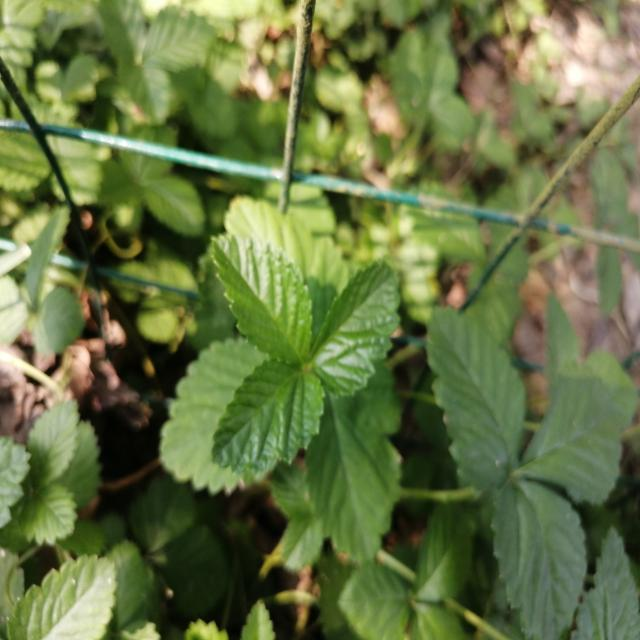Mock_strawberry: (216, 220, 420, 518)
